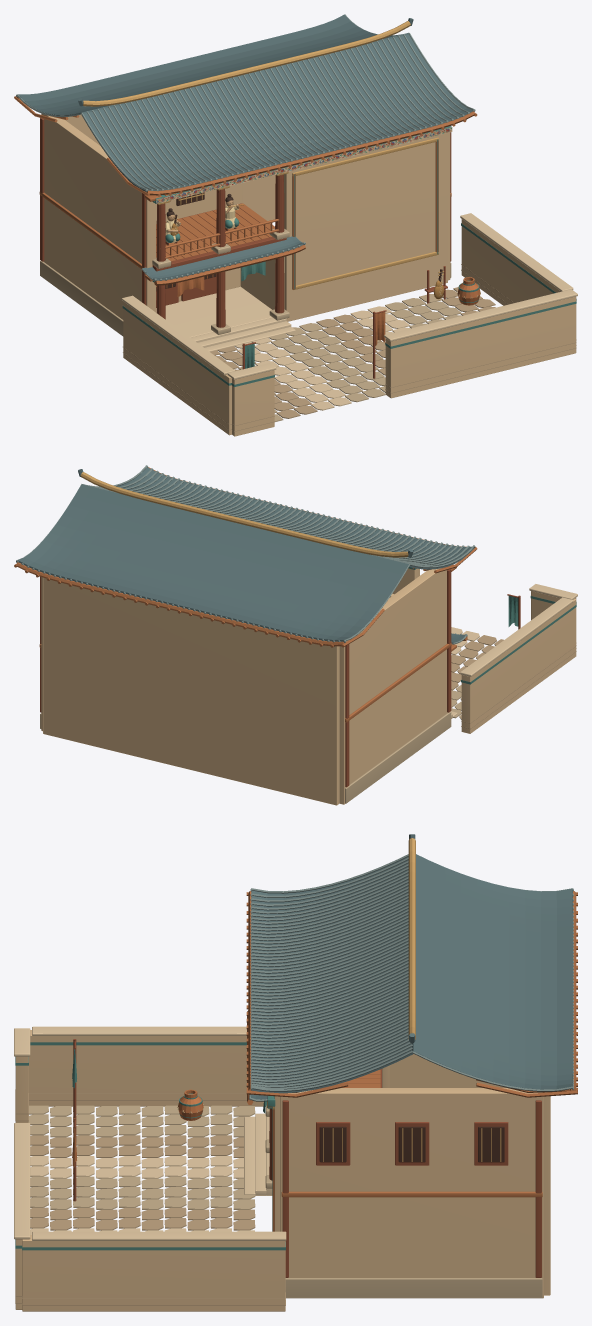
File: music-pavilion.glb
3 renders of one model, top to bottom at view 1: azimuth 30°, elevation 25°; view 2: azimuth 150°, elevation 25°; view 3: azimuth 270°, elevation 25°, orthographic. The views are drawn at different scales.
Parts seen in each view (by area): view 1: architecture--plaster, main-roof--tile, main-roof--tile-edge, court-paving--stone, architecture--stone-light, porch--wood, porch--stone-light, court-paving--stone-shadow, court-paving--stone-light, porch--wood-light, main-roof--wood-light, main-roof--ochre (+14 smaller); view 2: architecture--plaster, main-roof--tile, main-roof--tile-edge, main-roof--wood-light, main-roof--ochre, mural-frame--stone, architecture--stone-light, mural-frame--wood, court-paving--stone-shadow, mural-frame--wood-light, architecture--teal; view 3: architecture--plaster, main-roof--tile, main-roof--tile-edge, court-paving--stone, court-paving--stone-shadow, architecture--stone-light, mural-frame--stone, court-paving--stone-light, mural-frame--wood, mural-frame--dark, main-roof--wood-light, mural-frame--wood-light (+5 smaller).
Boxes of the visible parts, left/top/right/bottom form: architecture--plaster: left=41, top=113, right=576, bottom=436; main-roof--tile: left=18, top=14, right=472, bottom=191; main-roof--tile-edge: left=16, top=14, right=475, bottom=191; court-paving--stone: left=269, top=294, right=461, bottom=421; architecture--stone-light: left=121, top=213, right=577, bottom=379; porch--wood: left=152, top=174, right=286, bottom=327; porch--stone-light: left=156, top=286, right=295, bottom=351; court-paving--stone-shadow: left=210, top=287, right=495, bottom=418; court-paving--stone-light: left=235, top=306, right=410, bottom=410; porch--wood-light: left=145, top=193, right=279, bottom=290; main-roof--wood-light: left=14, top=96, right=477, bottom=196; main-roof--ochre: left=83, top=21, right=410, bottom=106; architecture--plaster: left=41, top=568, right=576, bottom=805; main-roof--tile: left=18, top=467, right=474, bottom=641; main-roof--tile-edge: left=16, top=465, right=475, bottom=642; main-roof--wood-light: left=14, top=467, right=477, bottom=647; main-roof--ochre: left=80, top=472, right=408, bottom=557; mural-frame--stone: left=40, top=711, right=451, bottom=803; architecture--stone-light: left=460, top=584, right=577, bottom=676; mural-frame--wood: left=40, top=569, right=451, bottom=787; court-paving--stone-shadow: left=451, top=635, right=503, bottom=690; mural-frame--wood-light: left=39, top=643, right=451, bottom=722; architecture--teal: left=408, top=567, right=576, bottom=684; architecture--plaster: left=15, top=1030, right=550, bottom=1311; main-roof--tile: left=251, top=834, right=572, bottom=1093; main-roof--tile-edge: left=250, top=854, right=573, bottom=1091; court-paving--stone: left=28, top=1105, right=255, bottom=1209; court-paving--stone-shadow: left=30, top=1135, right=255, bottom=1230; architecture--stone-light: left=14, top=1026, right=286, bottom=1240; mural-frame--stone: left=285, top=1278, right=542, bottom=1297; court-paving--stone-light: left=30, top=1156, right=254, bottom=1234; mural-frame--wood: left=282, top=1100, right=541, bottom=1277; mural-frame--dark: left=319, top=1126, right=504, bottom=1162; main-roof--wood-light: left=246, top=891, right=577, bottom=1097; mural-frame--wood-light: left=272, top=1110, right=542, bottom=1231.
Bounding box in the file's own units: 19.02 × 11.41 × 21.4.
Materials: 18 (1 with a texture image).
